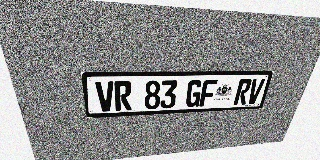3: (160, 80, 178, 109)
8: (144, 80, 161, 109)
F: (199, 79, 218, 107)
G: (185, 80, 203, 107)
R: (114, 81, 132, 111), (233, 79, 253, 105)
V: (95, 81, 115, 112), (246, 79, 265, 104)
